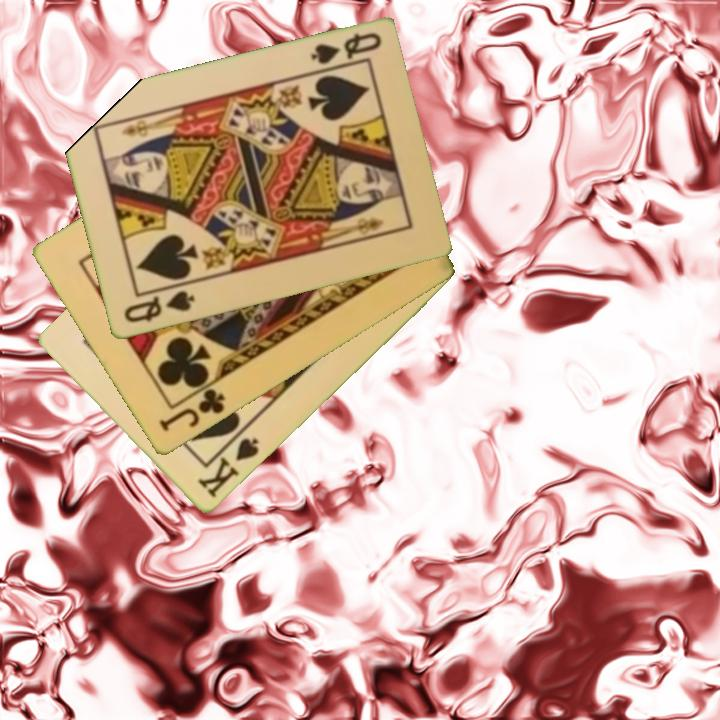Jc: (155, 385, 228, 436)
Ks: (194, 434, 262, 502)
Qs: (120, 287, 198, 326), (307, 29, 384, 68)
